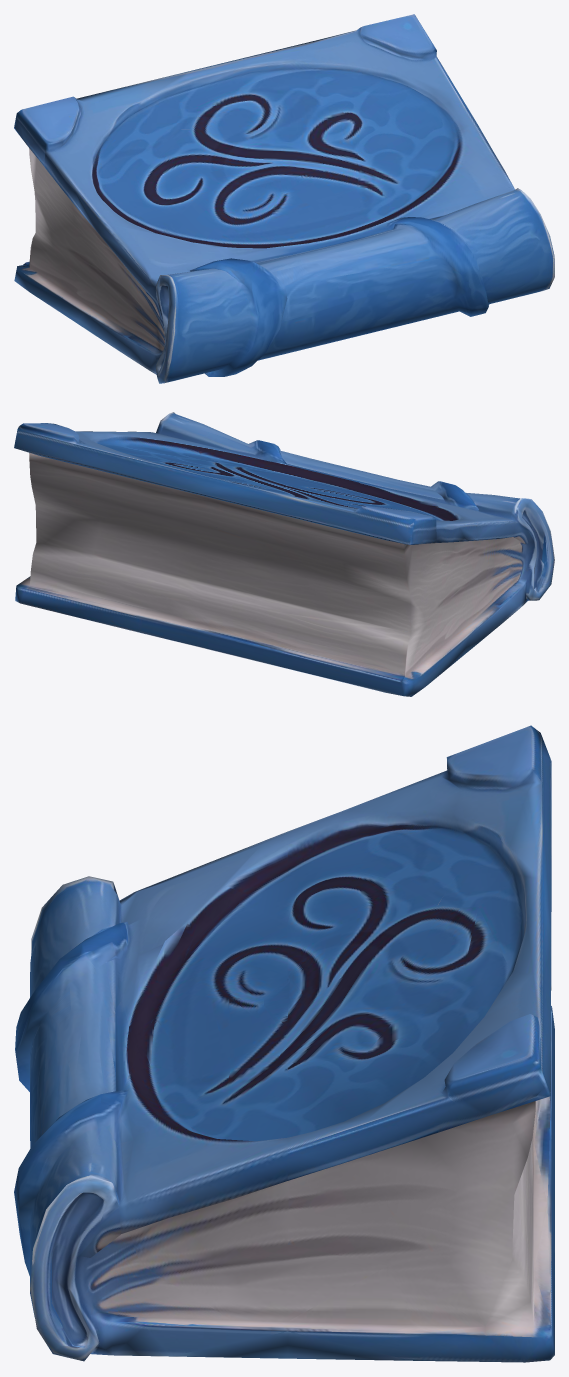
File: Book_Silver.fbx
3 views of the same model, one above another, from view 1: azimuth 30°, elevation 25°; view 2: azimuth 150°, elevation 25°; view 3: azimuth 270°, elevation 25° (orthographic). The views are drawn at different scales.
Parts seen in each view (by area): view 1: tripo_node_c8285ce6; view 2: tripo_node_c8285ce6; view 3: tripo_node_c8285ce6.
Boxes of the visible parts, x1=… form: tripo_node_c8285ce6: x1=14, y1=14, x2=554, y2=383; tripo_node_c8285ce6: x1=14, y1=412, x2=554, y2=696; tripo_node_c8285ce6: x1=14, y1=725, x2=554, y2=1362.
Bounding box in the file's own units: 1 × 0.4503 × 0.6805.
Materials: 1 (1 with a texture image).
